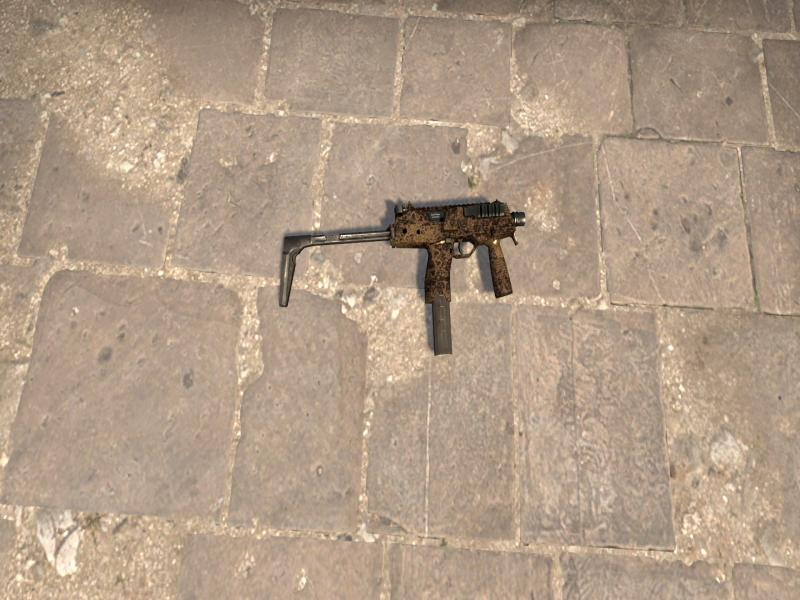MP9: (279, 200, 525, 353)
